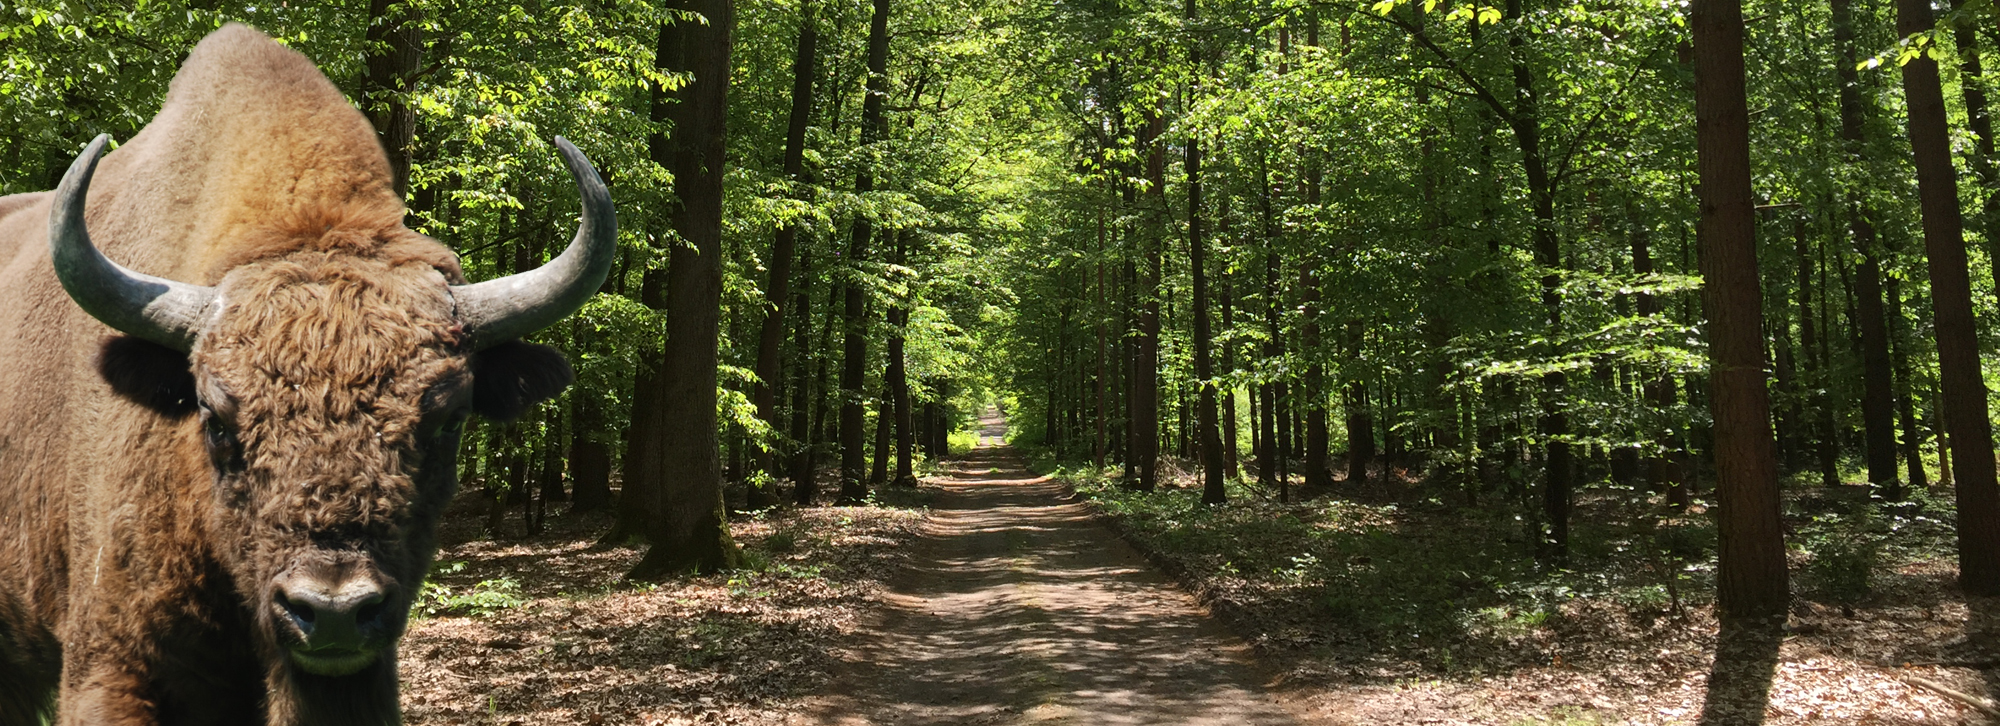zubr: (1, 37, 594, 684)
